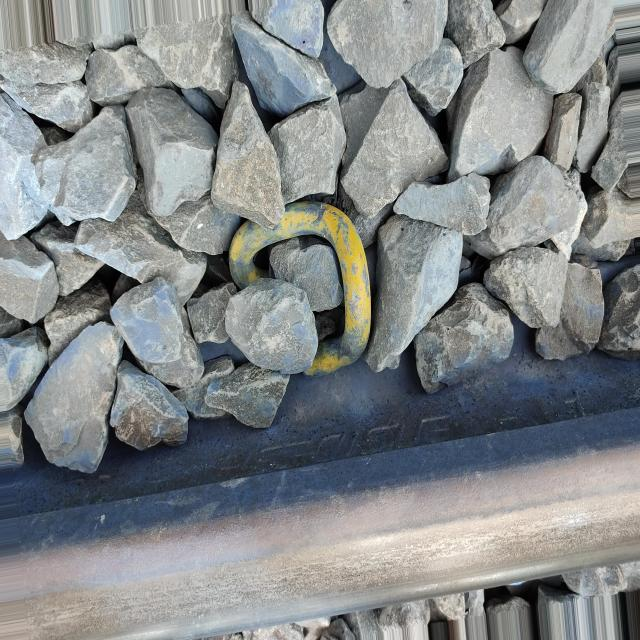Good Fasteners: (229, 201, 370, 372)
